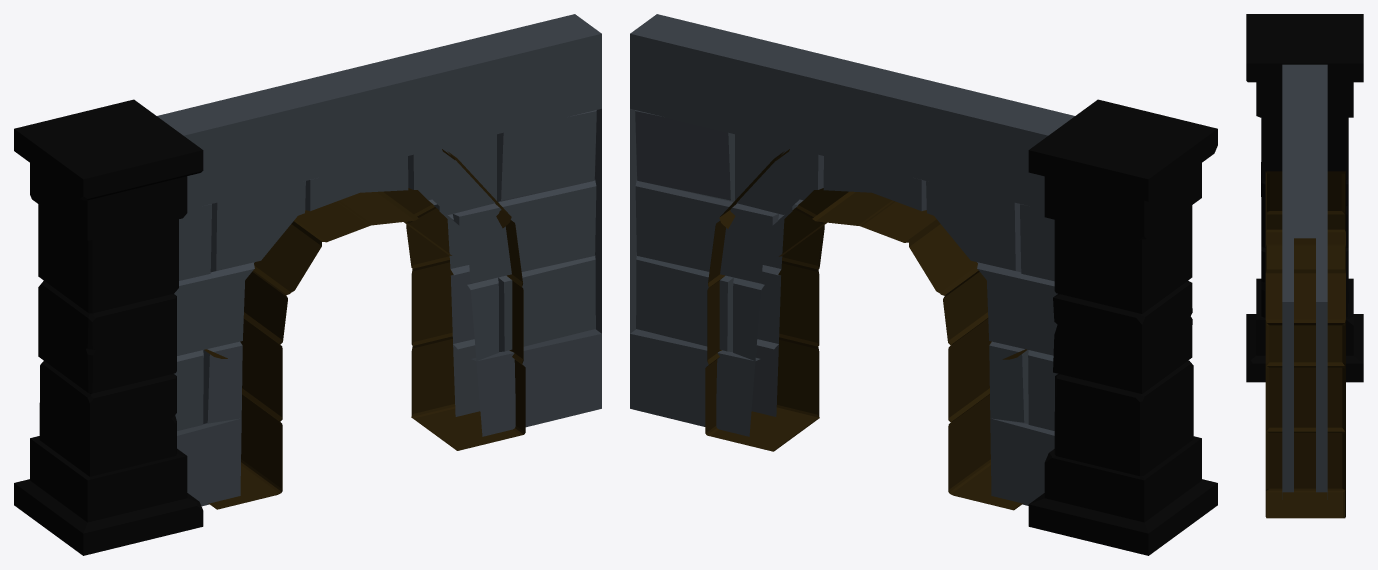
Rendered from gate_1.glb.
The picture shows the model from 3 angles, left to right: view 1: azimuth 30°, elevation 25°; view 2: azimuth 150°, elevation 25°; view 3: azimuth 270°, elevation 25°; orthographic projection. The views are drawn at different scales.
Visible parts, largest first — view 1: doorway; view 2: doorway; view 3: doorway.
Boxes of the visible parts, x1=… form: doorway: x1=14, y1=14, x2=601, y2=555; doorway: x1=630, y1=14, x2=1217, y2=555; doorway: x1=1246, y1=14, x2=1363, y2=518.
Bounding box in the file's own units: 4.5 × 3 × 1.
